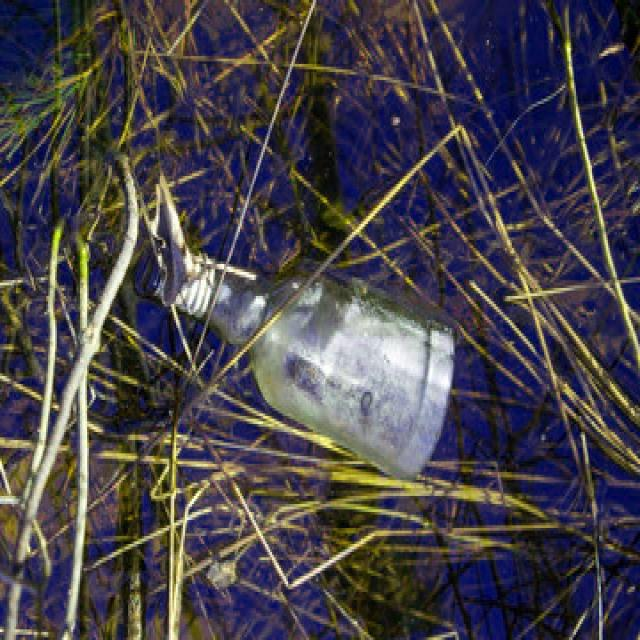Glass: (130, 249, 461, 490)
